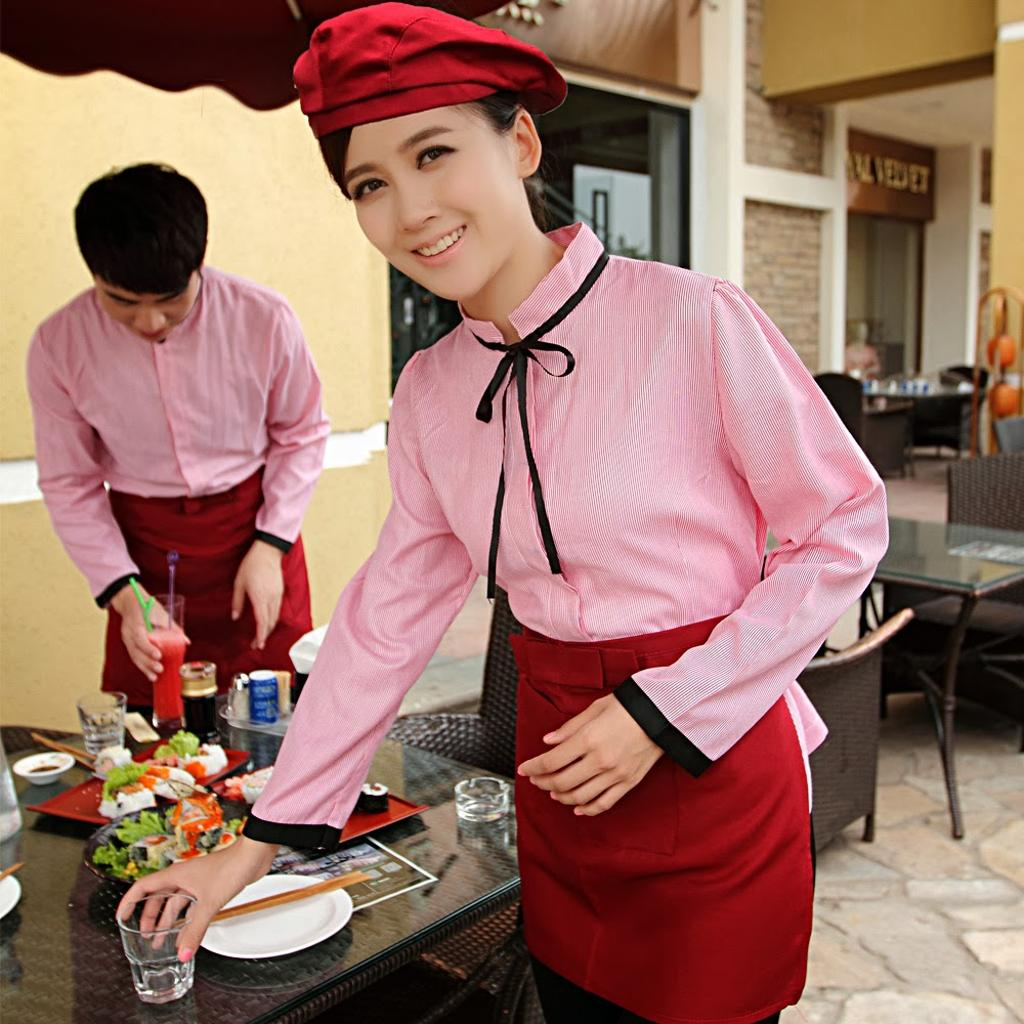face: (340, 100, 520, 300), (98, 278, 202, 346)
